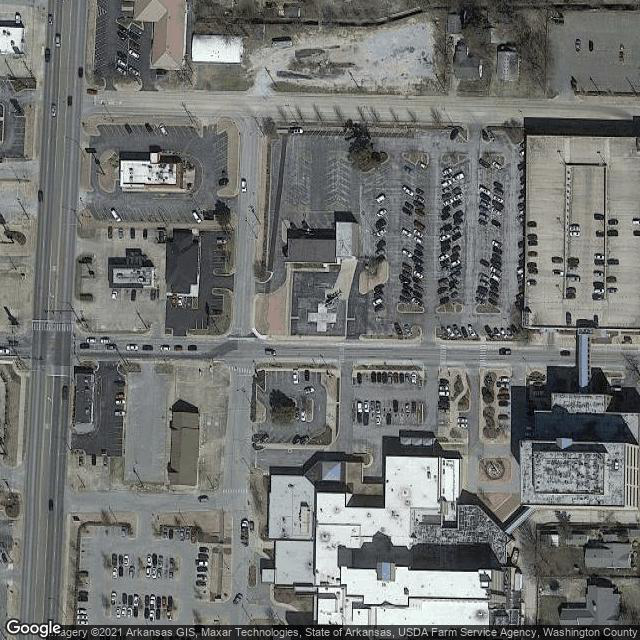Helipad: (307, 297, 342, 332)
